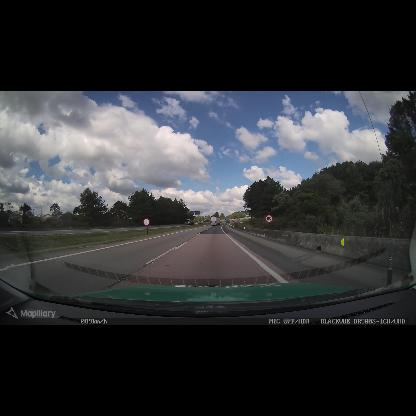R-19: (265, 214, 273, 223), (143, 218, 150, 226)
